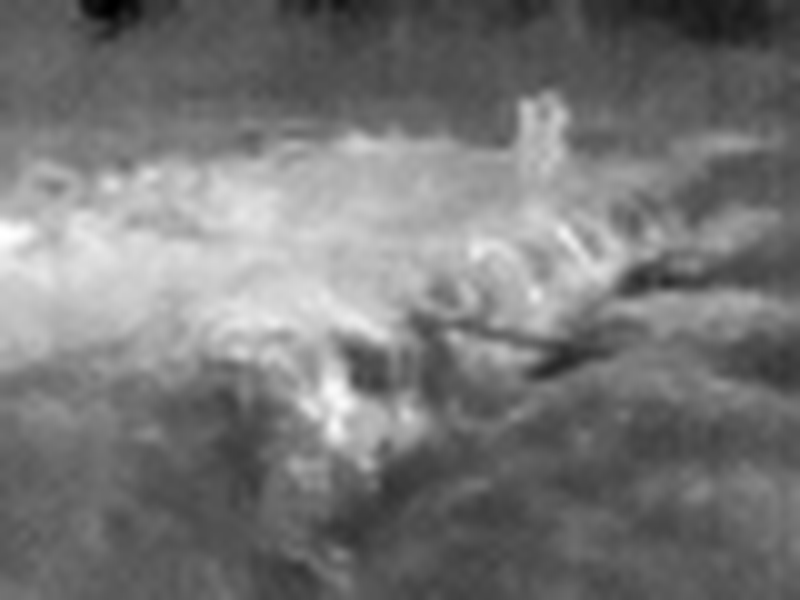elephant: (494, 82, 579, 184)
